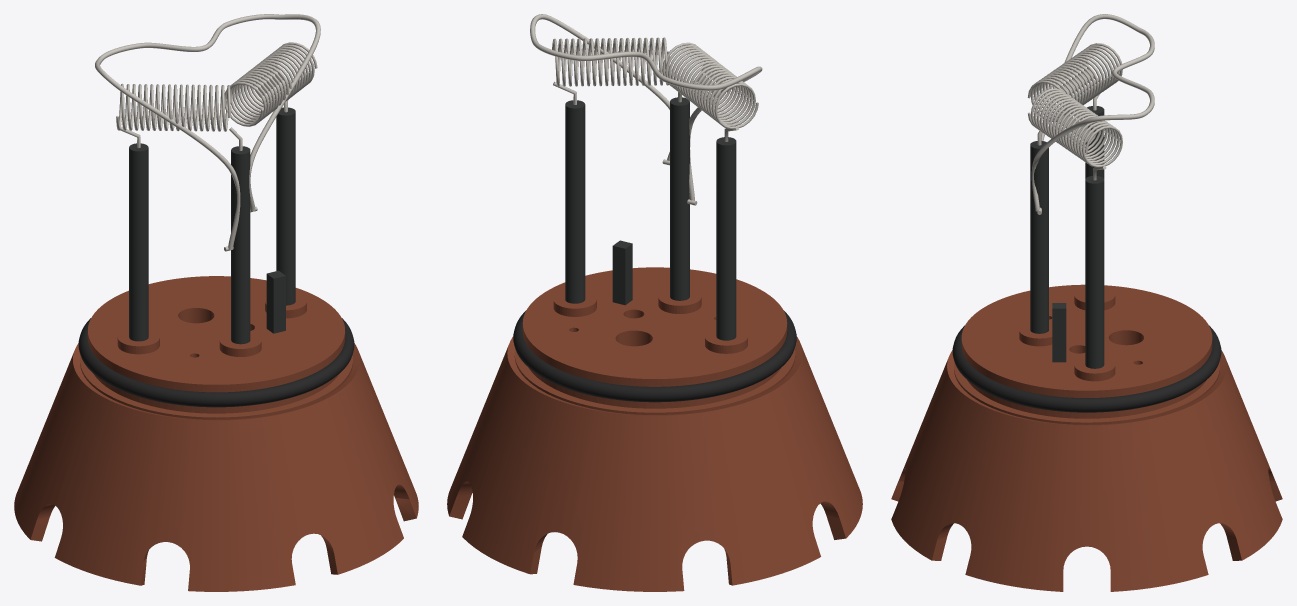
3 renders of one model, left to right at view 1: azimuth 30°, elevation 25°; view 2: azimuth 150°, elevation 25°; view 3: azimuth 270°, elevation 25°, orthographic. The views are drawn at different scales.
Parts seen in each view (by area): view 1: De, Dia, Gioang, SoiToc_1, SoiToc_0, Tru_trai, DayDo, Tru_giua, Tru_phai, SanDe, Co, CocNgan (+2 smaller); view 2: De, Dia, Gioang, SoiToc_0, Tru_trai, Tru_phai, Tru_giua, SoiToc_1, DayDo, SanDe, Co, CocNgan (+3 smaller); view 3: De, Dia, Gioang, SoiToc_1, Tru_phai, Tru_giua, SoiToc_0, DayDo, SanDe, Co, CocNgan, Gu_phai (+1 smaller).
Boxes of the visible parts, box(x1,y1,x2,y2) form: De: box(14, 343, 418, 591); Dia: box(87, 276, 345, 392); Gioang: box(78, 318, 354, 407); SoiToc_1: box(224, 42, 317, 126); SoiToc_0: box(116, 83, 231, 131); Tru_trai: box(129, 143, 148, 341); DayDo: box(95, 14, 320, 249); Tru_giua: box(231, 146, 250, 344); Tru_phai: box(276, 107, 295, 305); SanDe: box(80, 355, 352, 419); Co: box(93, 373, 339, 413); CocNgan: box(266, 270, 285, 333); De: box(447, 336, 862, 591); Dia: box(522, 267, 787, 386); Gioang: box(513, 310, 796, 402); SoiToc_0: box(662, 42, 758, 129); Tru_trai: box(716, 137, 736, 340); Tru_phai: box(565, 100, 585, 303); Tru_giua: box(670, 97, 689, 300); SoiToc_1: box(552, 37, 669, 86); DayDo: box(530, 14, 762, 200); SanDe: box(514, 349, 795, 414); Co: box(528, 367, 781, 408); CocNgan: box(612, 240, 632, 305); De: box(891, 350, 1282, 591); Dia: box(961, 284, 1212, 397); Gioang: box(952, 325, 1221, 412); SoiToc_1: box(1027, 88, 1122, 167); Tru_phai: box(1085, 176, 1104, 368); Tru_giua: box(1030, 141, 1048, 333); SoiToc_0: box(1027, 43, 1122, 122); DayDo: box(1031, 14, 1154, 211); SanDe: box(954, 362, 1219, 424); Co: box(967, 380, 1206, 418); CocNgan: box(1052, 303, 1066, 362); Gu_phai: box(1074, 357, 1115, 381).
Bounding box in the file's own units: 0.1191 × 0.1507 × 0.1191.
